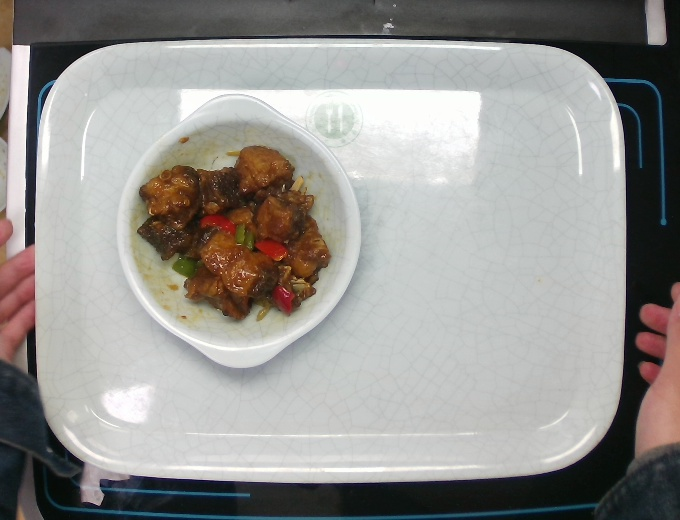JYsf-Shuang_Er_Wan: (111, 87, 361, 373)
